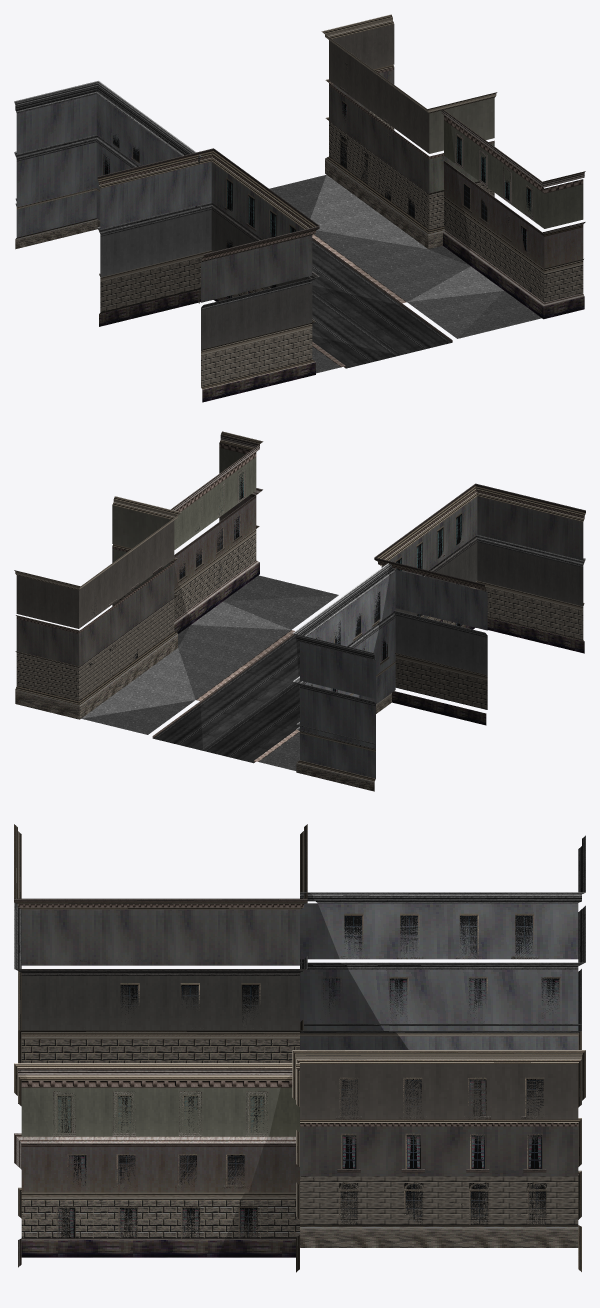
File: primary_130.glb
The picture shows the model from 3 angles, top to bottom: view 1: azimuth 30°, elevation 25°; view 2: azimuth 150°, elevation 25°; view 3: azimuth 270°, elevation 25°; orthographic projection. The views are drawn at different scales.
Parts seen in each view (by area): view 1: Object; view 2: Object; view 3: Object.
Part boxes in pixels (x1,y1,x2,y2): Object: (14,14,585,402); Object: (14,431,585,791); Object: (14,824,585,1272).
Size of the model in its own units: 33.81 by 12.44 by 30.67.
Materials: 253 (253 with a texture image).
